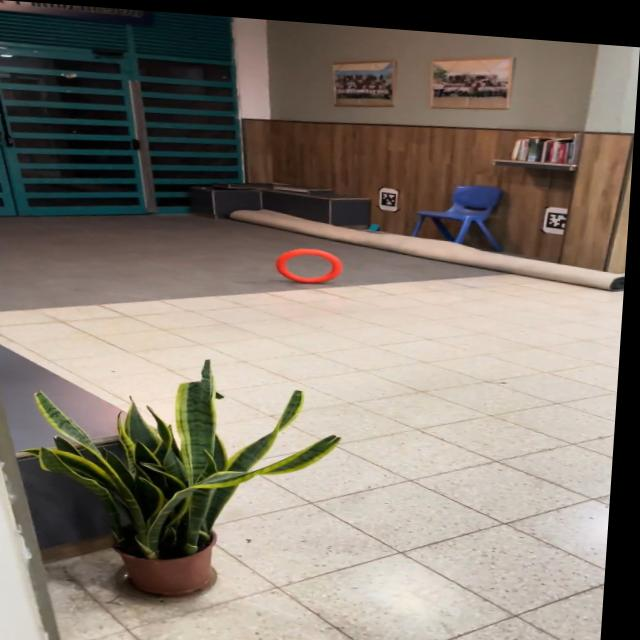note: (275, 240, 350, 282)
